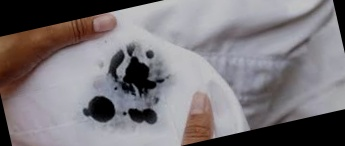ink: (122, 55, 156, 94), (85, 94, 118, 124), (129, 104, 158, 129), (108, 51, 126, 70)
